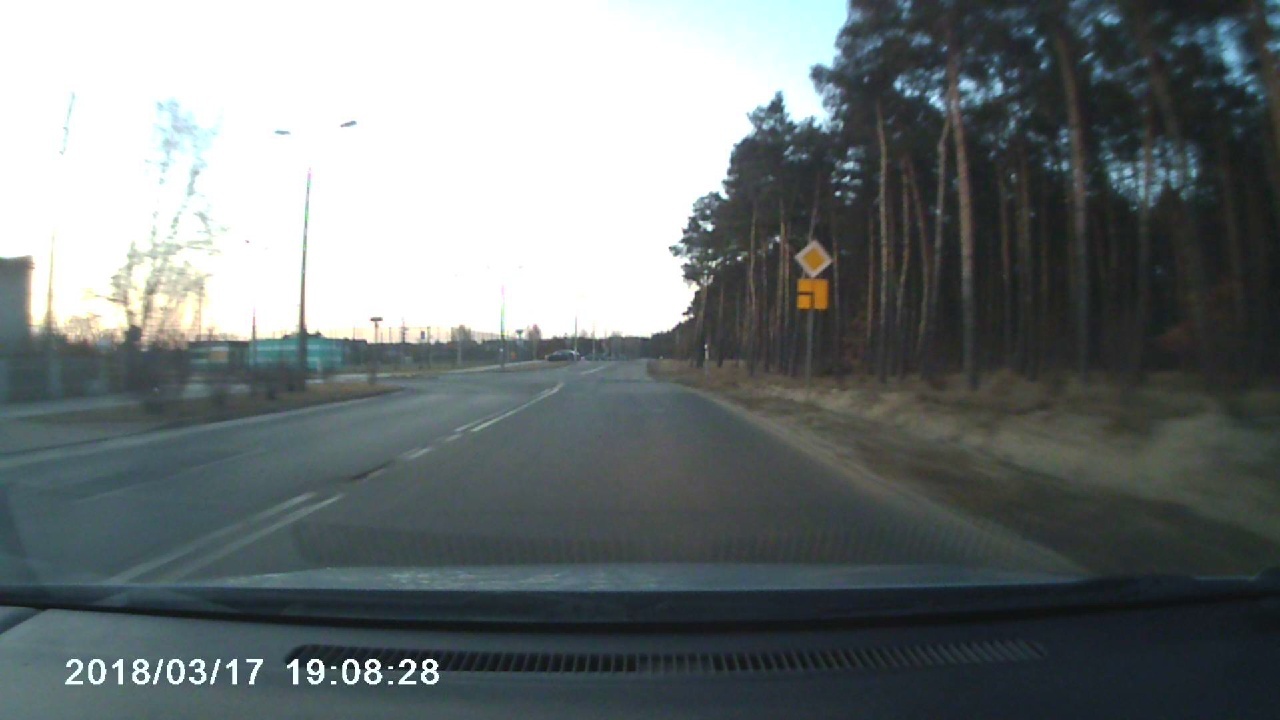D1: (794, 239, 833, 278)
